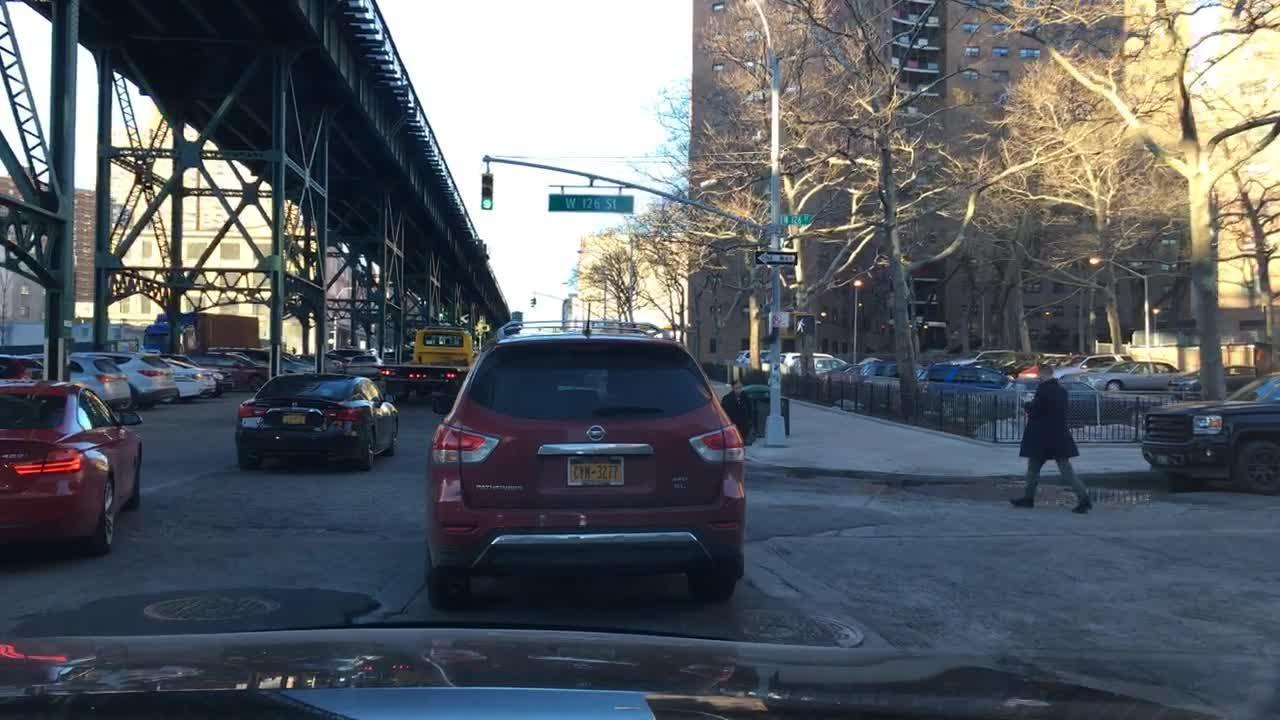Nissan: (573, 412, 616, 454)
